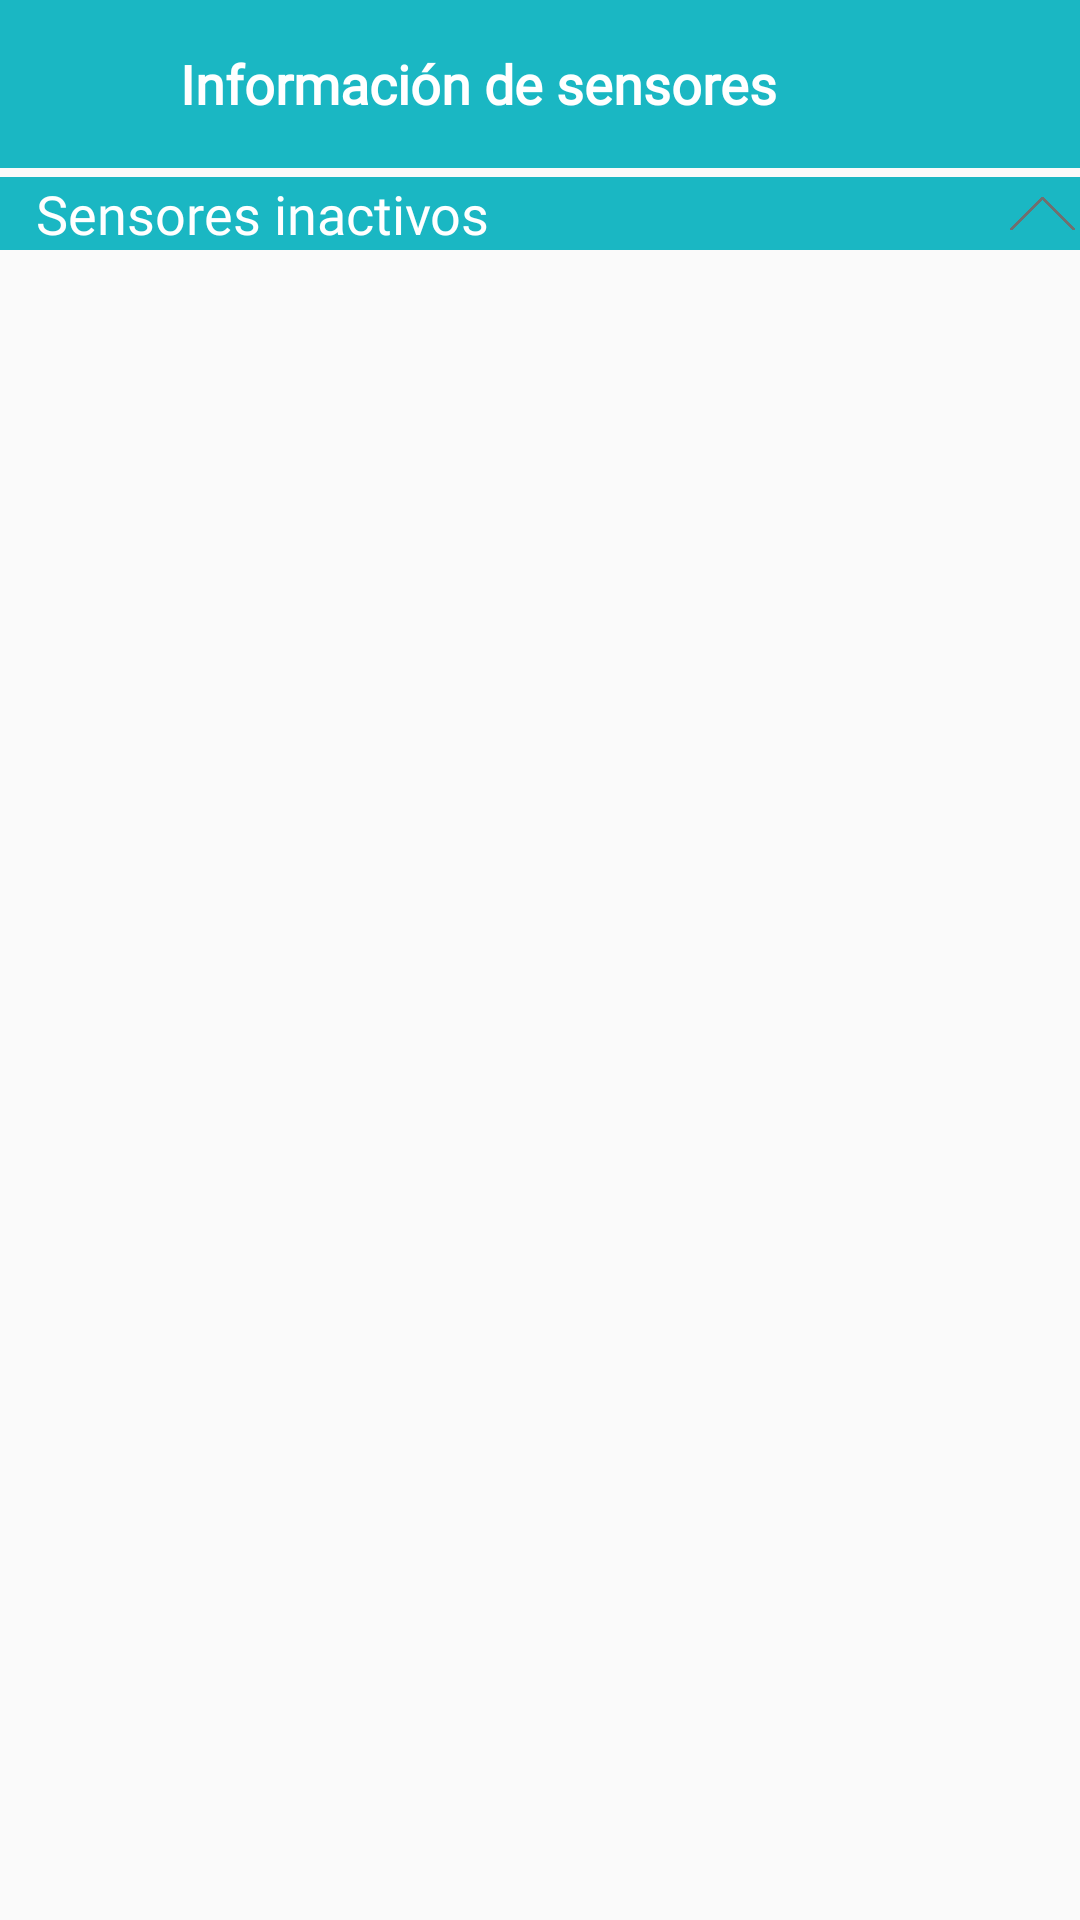

Where icons sit on this 1080px x 1920px app screen, as [left=x1, top=y1, right=x2, bottom=y2]:
flecha arriba: [left=1005, top=177, right=1080, bottom=250]
